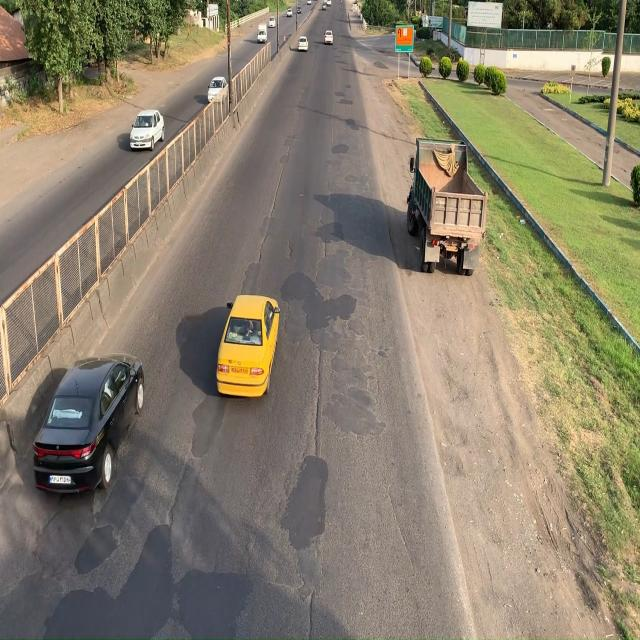Truck: (409, 132, 492, 270)
cars: (35, 354, 144, 498), (217, 294, 280, 397), (130, 110, 164, 150)
